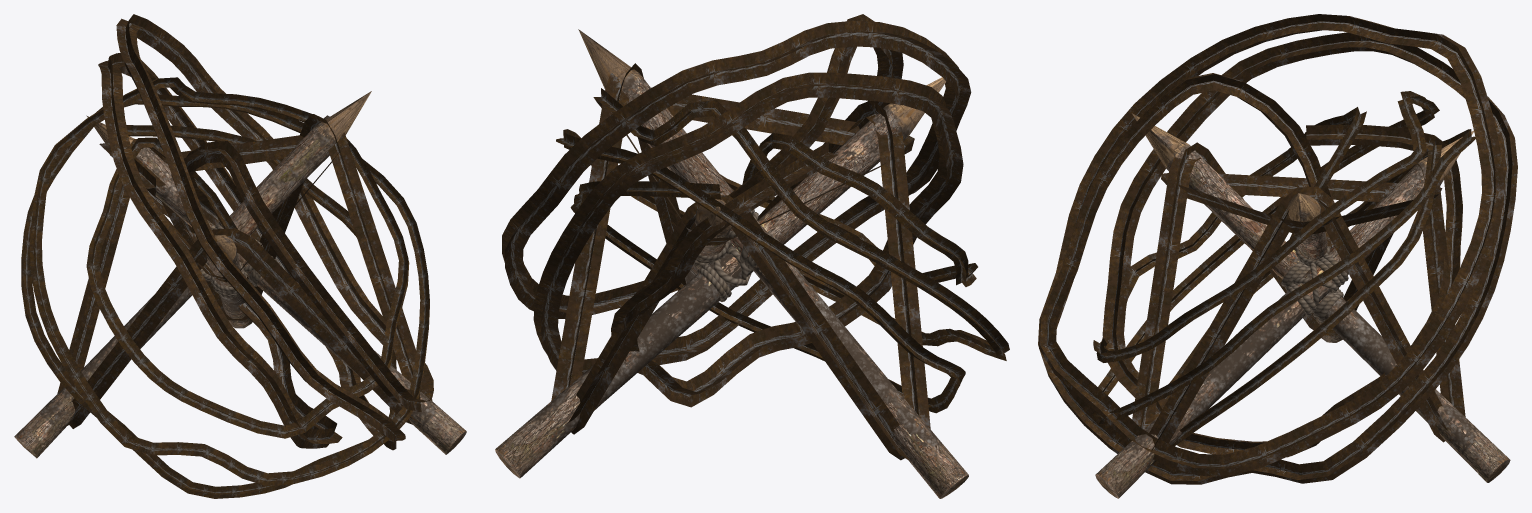
Rendered from Wood_Obstacles_02.FBX.
3 views of the same model, side by side, from view 1: azimuth 30°, elevation 25°; view 2: azimuth 150°, elevation 25°; view 3: azimuth 270°, elevation 25° (orthographic). The views are drawn at different scales.
Parts seen in each view (by area): view 1: Wood_Obstacles_wire_02, Wood_Obstacles_02; view 2: Wood_Obstacles_wire_02, Wood_Obstacles_02; view 3: Wood_Obstacles_wire_02, Wood_Obstacles_02.
Part boxes in pixels (x1=…): Wood_Obstacles_wire_02: x1=21, y1=14, x2=433, y2=498; Wood_Obstacles_02: x1=14, y1=91, x2=466, y2=458; Wood_Obstacles_wire_02: x1=502, y1=14, x2=1009, y2=461; Wood_Obstacles_02: x1=495, y1=29, x2=968, y2=498; Wood_Obstacles_wire_02: x1=1038, y1=14, x2=1517, y2=484; Wood_Obstacles_02: x1=1095, y1=113, x2=1510, y2=498.
Bounding box in the file's own units: 195 × 194 × 215.
